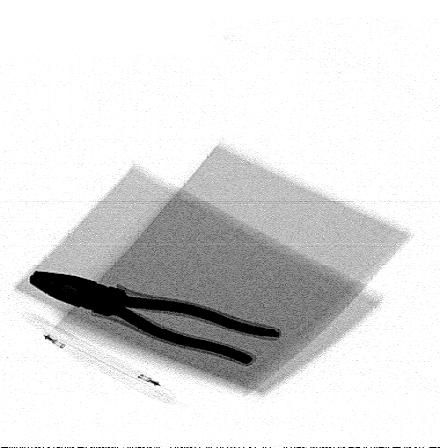Pliers: (29, 269, 280, 366)
